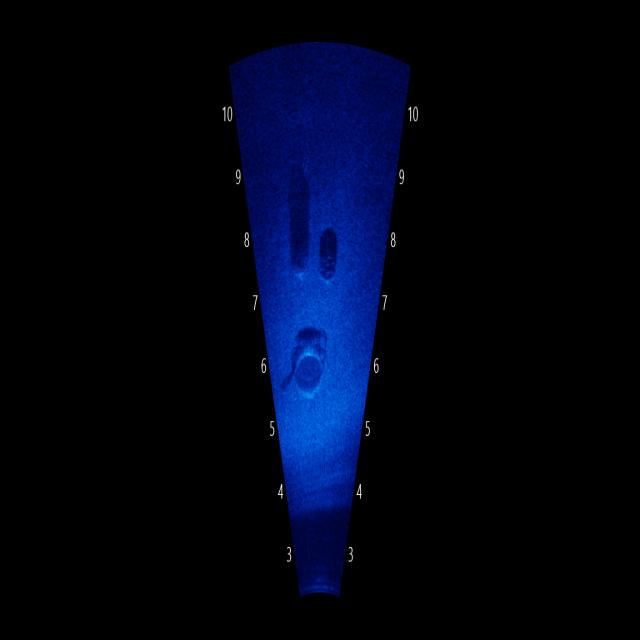circle: (290, 345, 329, 401)
